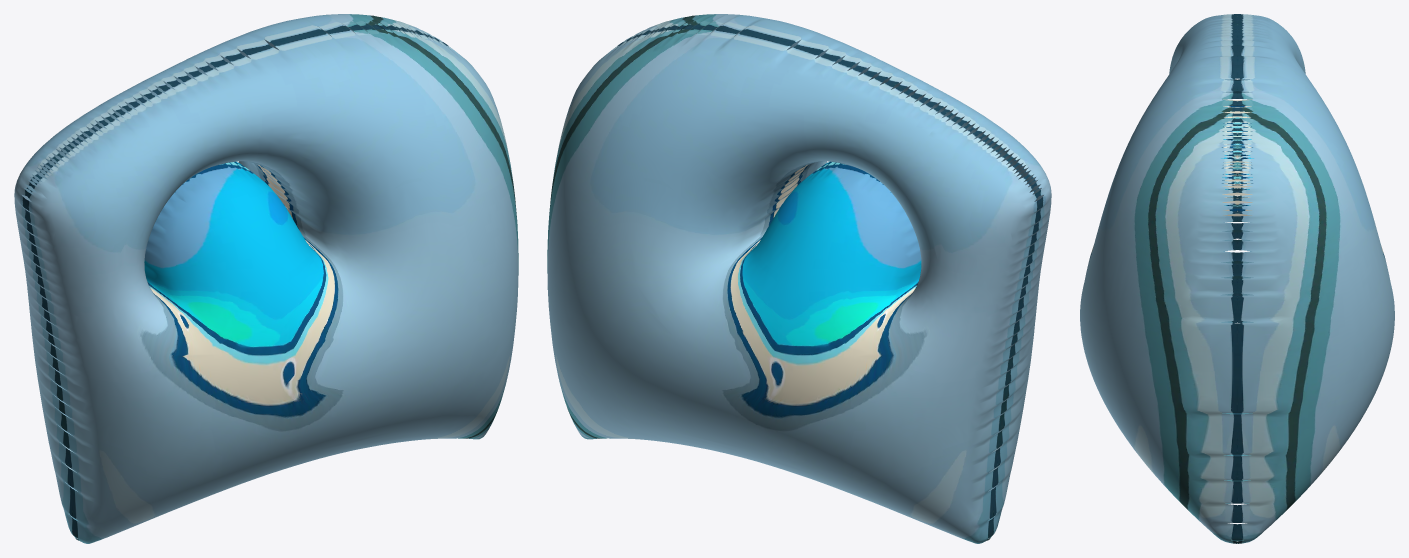
The model's file is porthole_bulkhead.glb.
3 renders of one model, left to right at view 1: azimuth 30°, elevation 25°; view 2: azimuth 150°, elevation 25°; view 3: azimuth 270°, elevation 25°, orthographic. The views are drawn at different scales.
Parts seen in each view (by area): view 1: porthole_bulkhead; view 2: porthole_bulkhead; view 3: porthole_bulkhead.
Part boxes in pixels (x1,y1,x2,y2): porthole_bulkhead: [14, 14, 518, 543]; porthole_bulkhead: [547, 14, 1051, 543]; porthole_bulkhead: [1080, 14, 1394, 543].
Bounding box in the file's own units: 0.989 × 0.9167 × 0.6399.
1 material, 1 textured.
